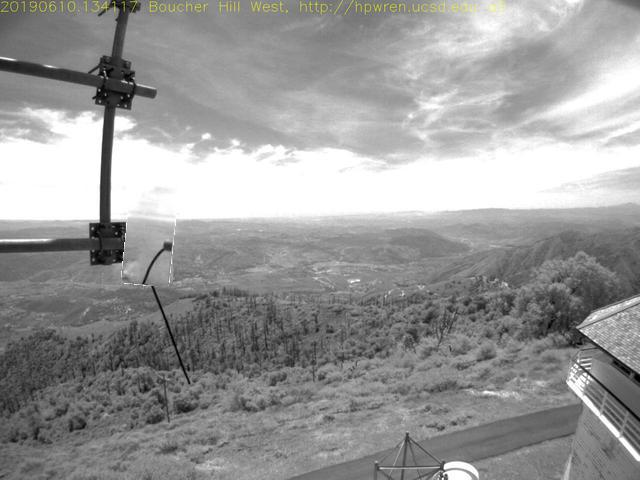smoke: (125, 182, 178, 287)
